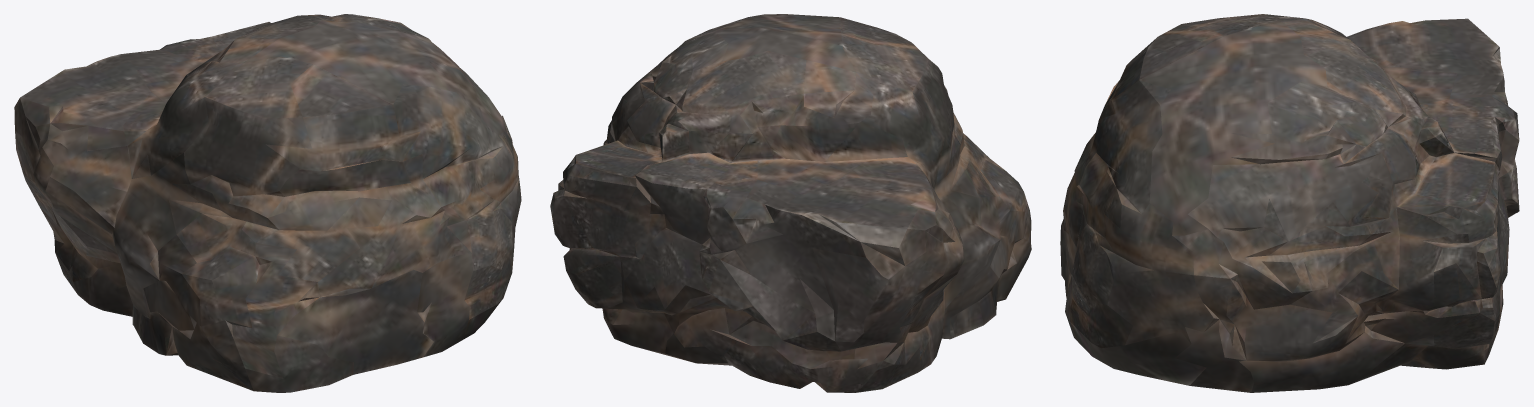
File: et_rock2.glb
The picture shows the model from 3 angles, left to right: view 1: azimuth 30°, elevation 25°; view 2: azimuth 150°, elevation 25°; view 3: azimuth 270°, elevation 25°; orthographic projection. The views are drawn at different scales.
Bounding box in the file's own units: 1.9 × 1.15 × 1.75.
1 material, 1 textured.
